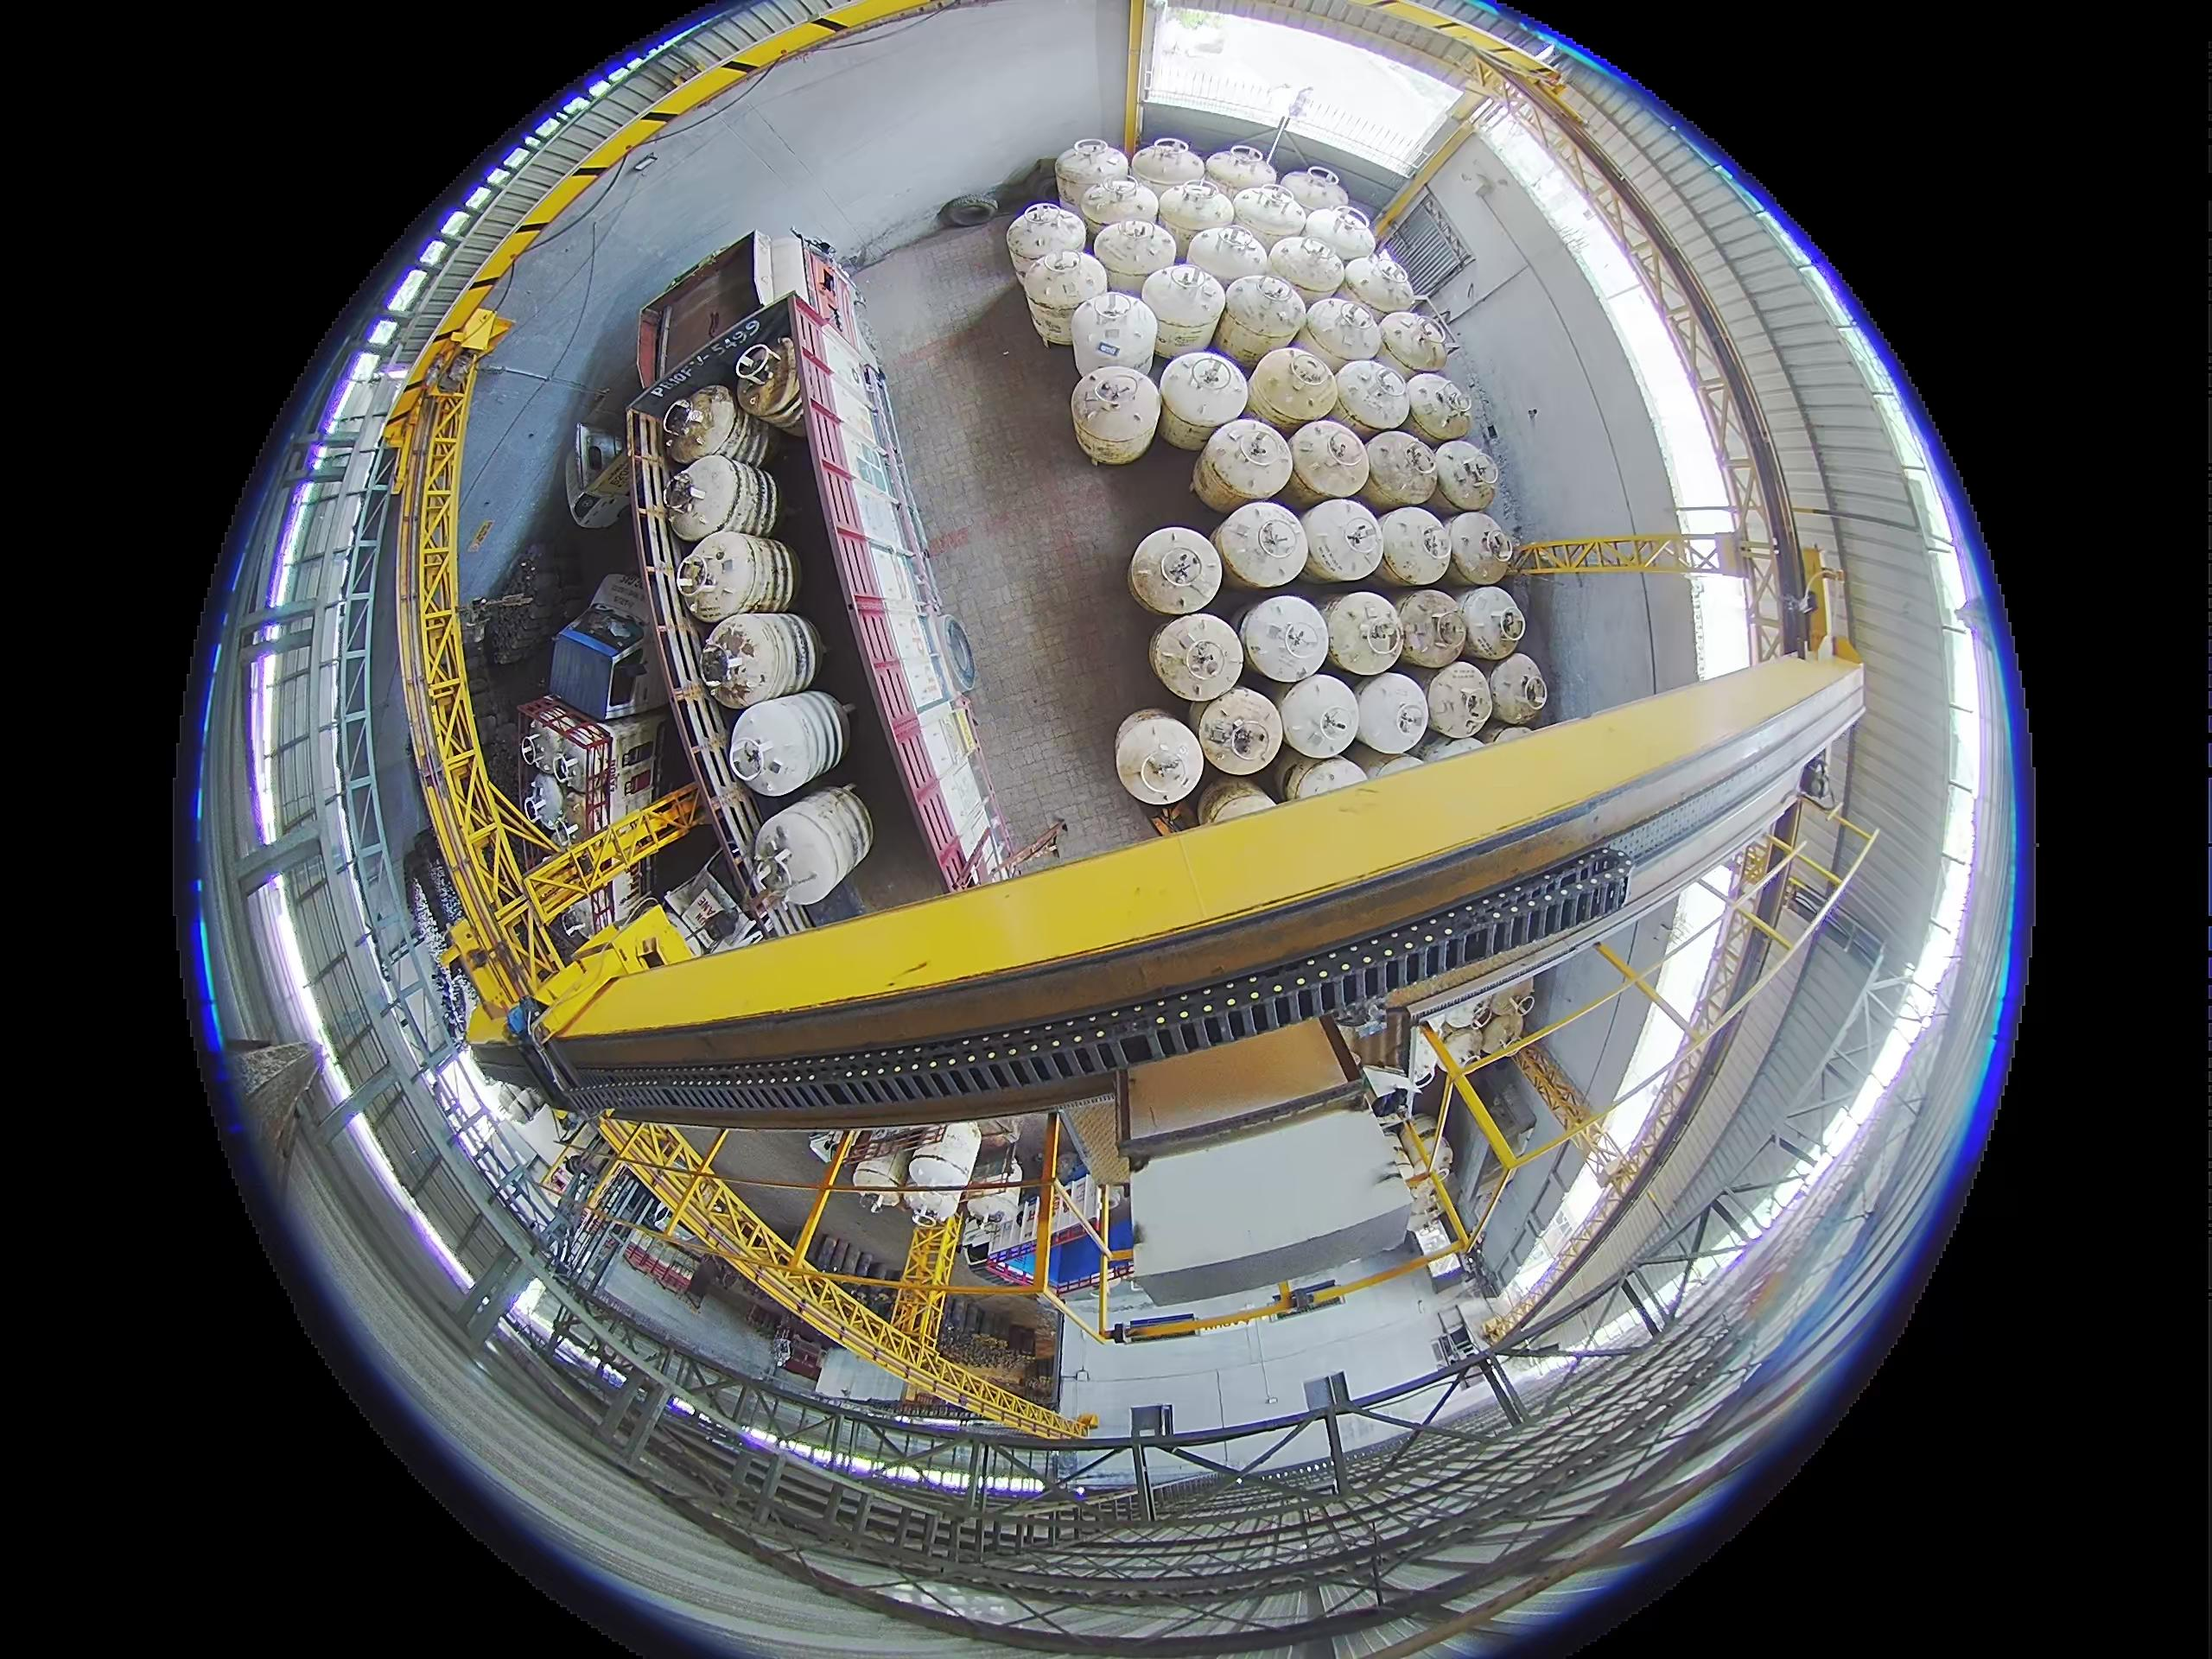cylinder: (749, 786, 874, 910), (725, 690, 850, 795), (700, 610, 824, 702), (1116, 697, 1211, 814), (678, 532, 801, 619), (665, 453, 780, 542), (1212, 498, 1308, 591), (1197, 418, 1292, 509), (1127, 525, 1221, 615), (1148, 613, 1244, 702), (1216, 270, 1305, 366), (1238, 594, 1331, 685), (1158, 355, 1249, 448), (1247, 345, 1336, 436), (1141, 261, 1226, 355), (1015, 249, 1096, 347), (1278, 671, 1366, 760), (902, 1124, 982, 1220), (1195, 690, 1284, 775), (1299, 497, 1385, 584), (1069, 289, 1153, 376), (1322, 592, 1406, 678), (1289, 418, 1372, 502), (733, 336, 805, 432), (665, 383, 749, 464), (1376, 500, 1453, 586), (1355, 671, 1432, 755), (1362, 430, 1440, 511), (1155, 179, 1237, 256), (1188, 221, 1275, 293), (1393, 589, 1470, 669), (1425, 660, 1498, 744), (1303, 295, 1383, 369), (1332, 359, 1411, 434), (1094, 216, 1174, 288), (1055, 139, 1129, 211), (1458, 586, 1527, 660), (1446, 511, 1515, 586), (1007, 202, 1082, 272), (1266, 232, 1343, 300), (1231, 185, 1310, 251), (1432, 441, 1501, 514), (1400, 371, 1470, 444), (1301, 204, 1378, 270), (1378, 310, 1449, 380), (1078, 178, 1153, 244), (1341, 251, 1416, 315), (1482, 653, 1548, 725), (1129, 138, 1204, 199), (1280, 753, 1367, 802), (1470, 990, 1531, 1058), (852, 1145, 913, 1213), (1195, 777, 1278, 826), (1205, 143, 1277, 197), (1280, 166, 1350, 218), (523, 772, 568, 835), (493, 1079, 547, 1126), (1437, 1016, 1484, 1065), (526, 732, 571, 774), (606, 870, 637, 925), (557, 897, 594, 943)
truck: (625, 234, 1045, 1006)
